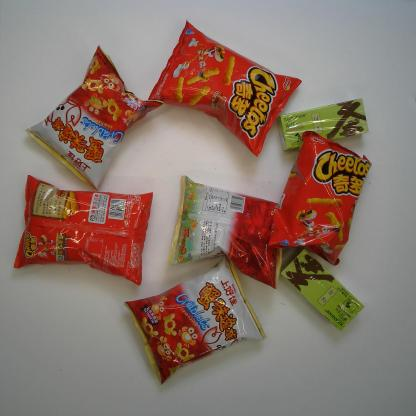Instant Drink: (278, 246, 366, 331), (276, 97, 370, 152)
Puffed Food: (147, 18, 304, 158), (24, 44, 164, 191), (122, 254, 267, 388), (13, 173, 154, 286), (266, 130, 373, 267), (166, 174, 284, 291)
